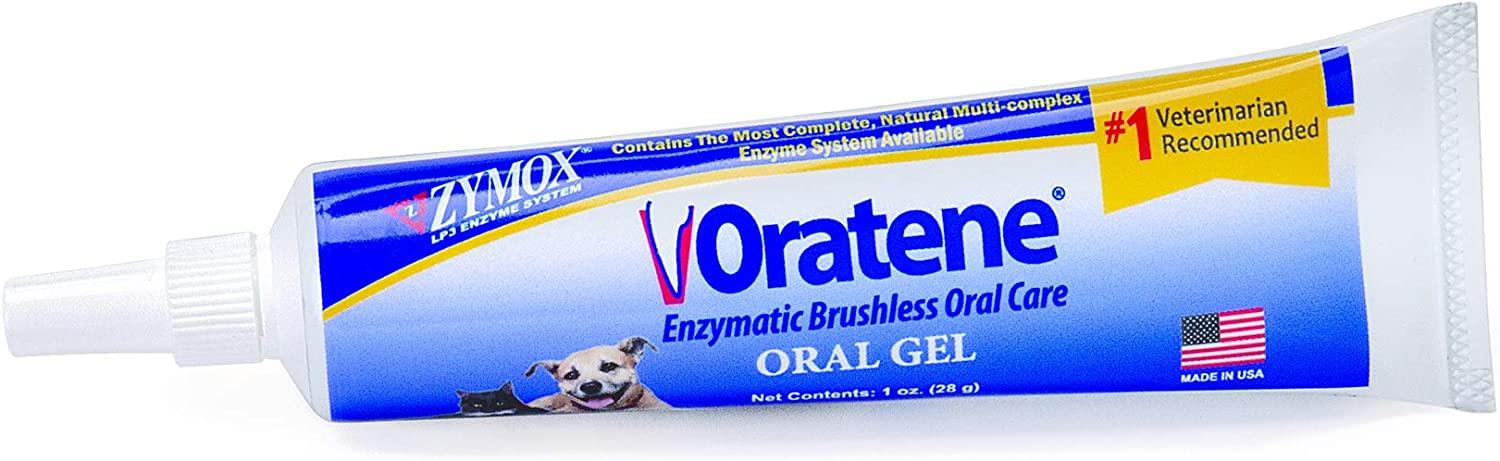toothpaste: (0, 6, 1496, 456)
